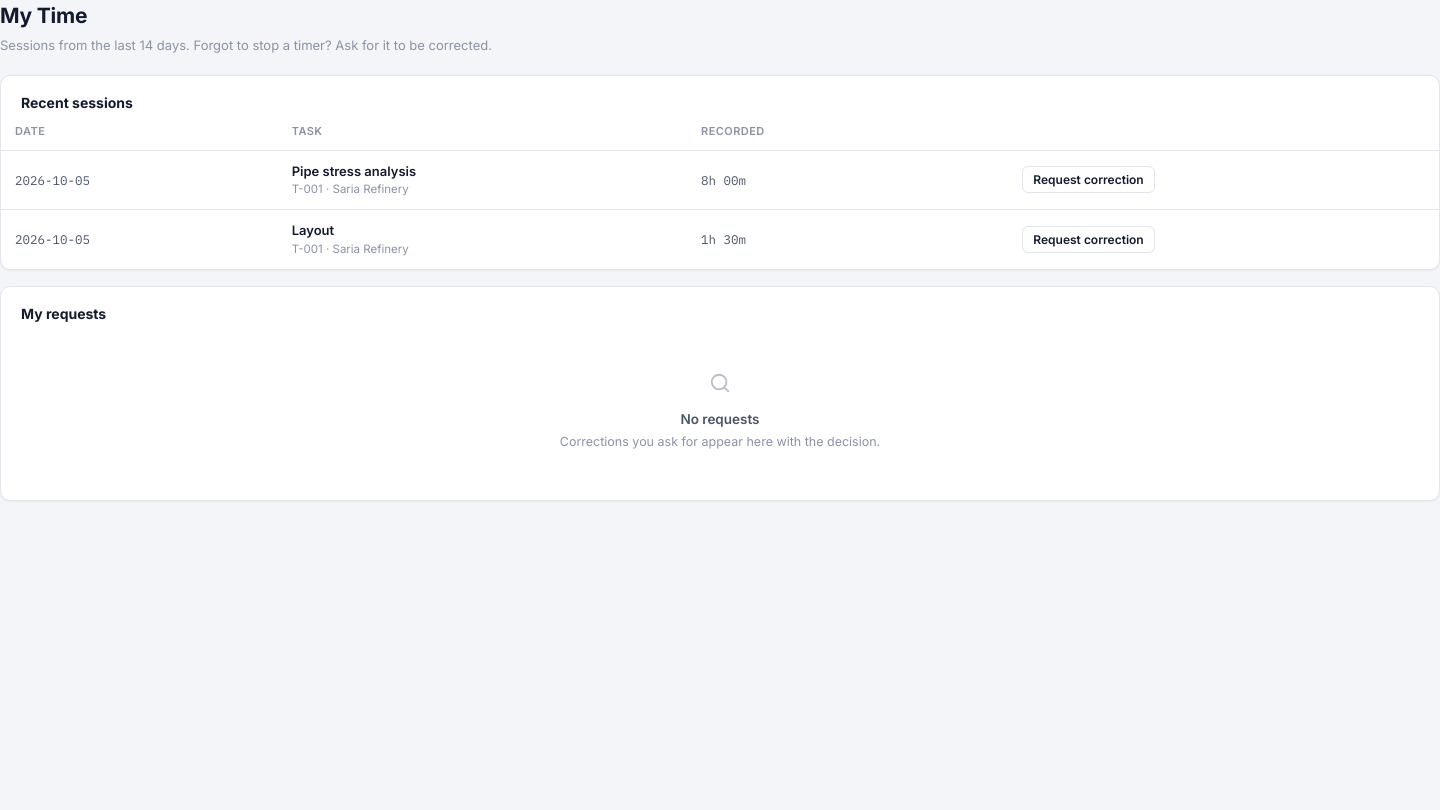
Test: My Time › sends a request with the new time and the reason, then refreshes
The image size is (1440, 810).
Click the button "Request correction" in the row of "Pipe stress analysis": (1088, 180) [1022,166,1155,193]
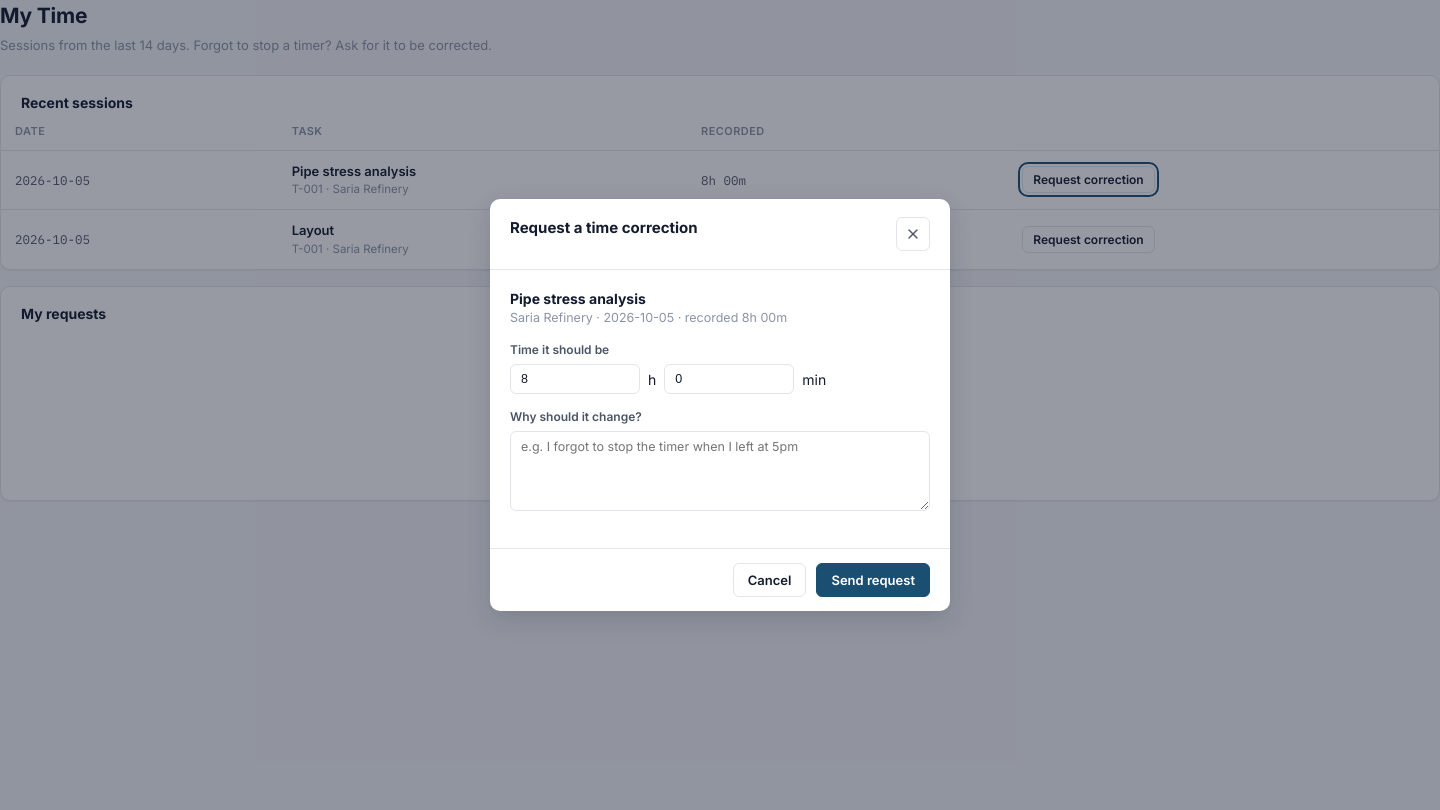
Expected: the number field named "Hours" holds "8"
Expected: the number field named "Minutes" holds "0", [664,364,794,394]
Replace the text in the number field named "Hours" with "6": (575, 379) [510,364,640,394]
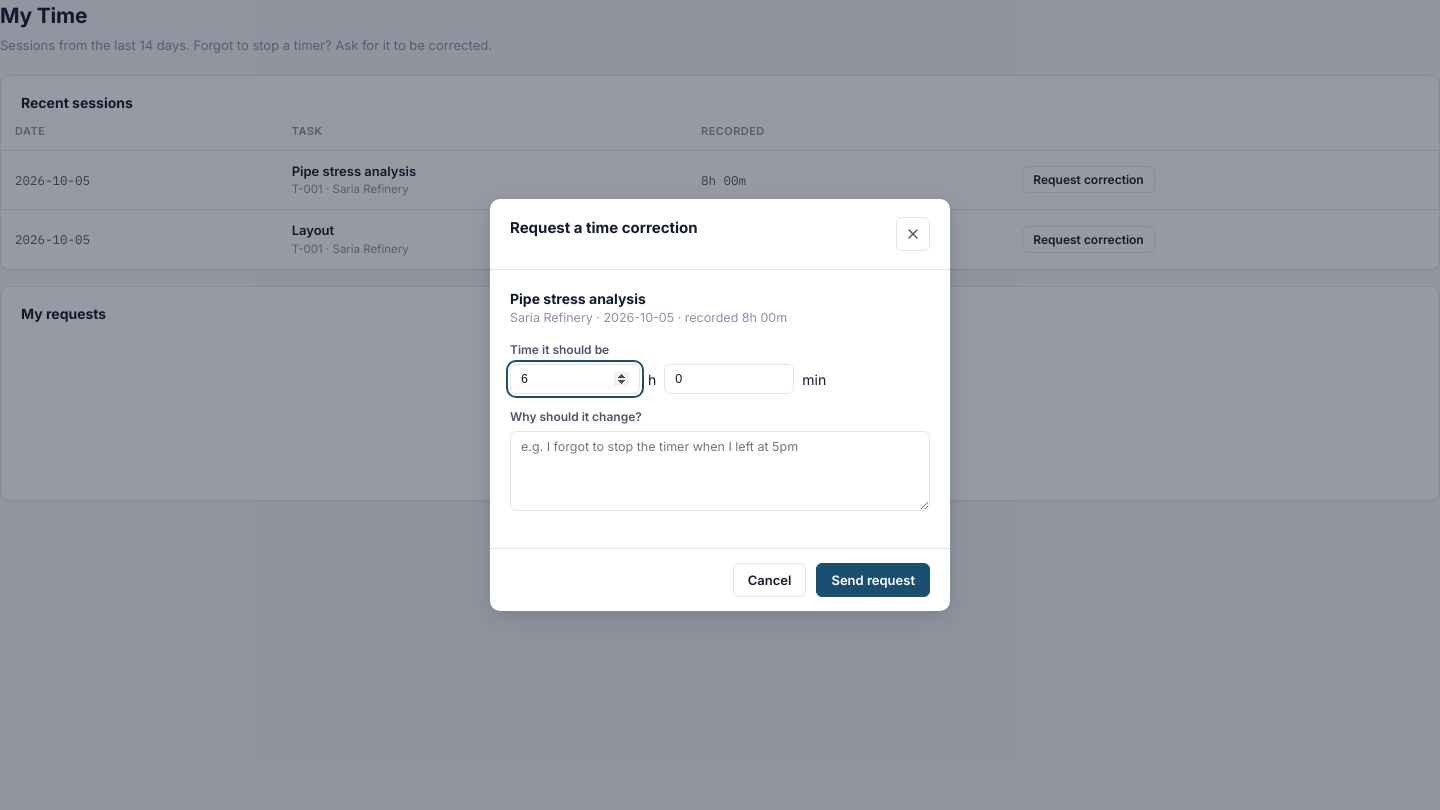
Replace the text in the number field named "Minutes" with "30": (729, 379) [664,364,794,394]
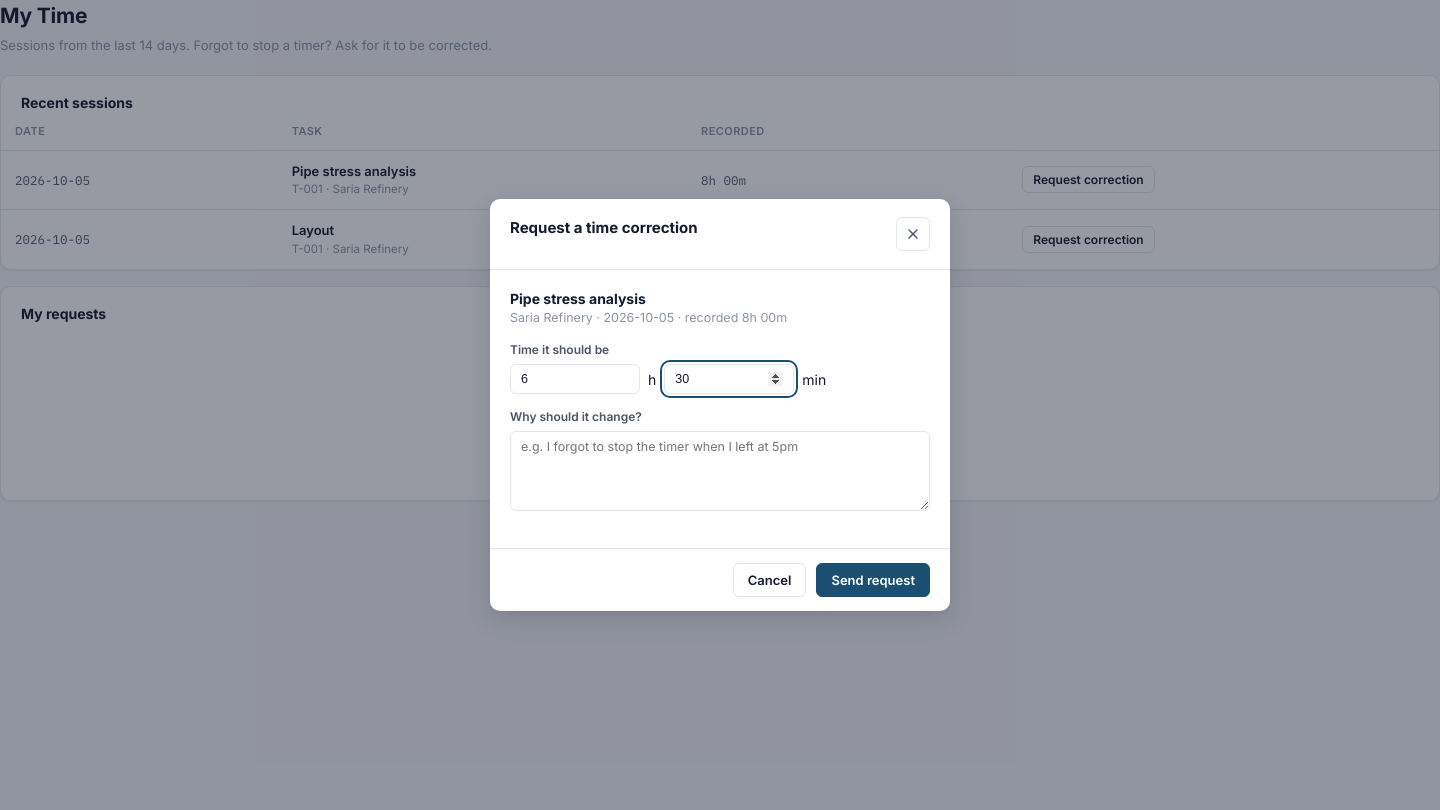
In the text box with placeholder "e.g. I forgot to stop the timer when I left at 5pm": (720, 471) [510,431,930,511], type "I left at 2:30pm"
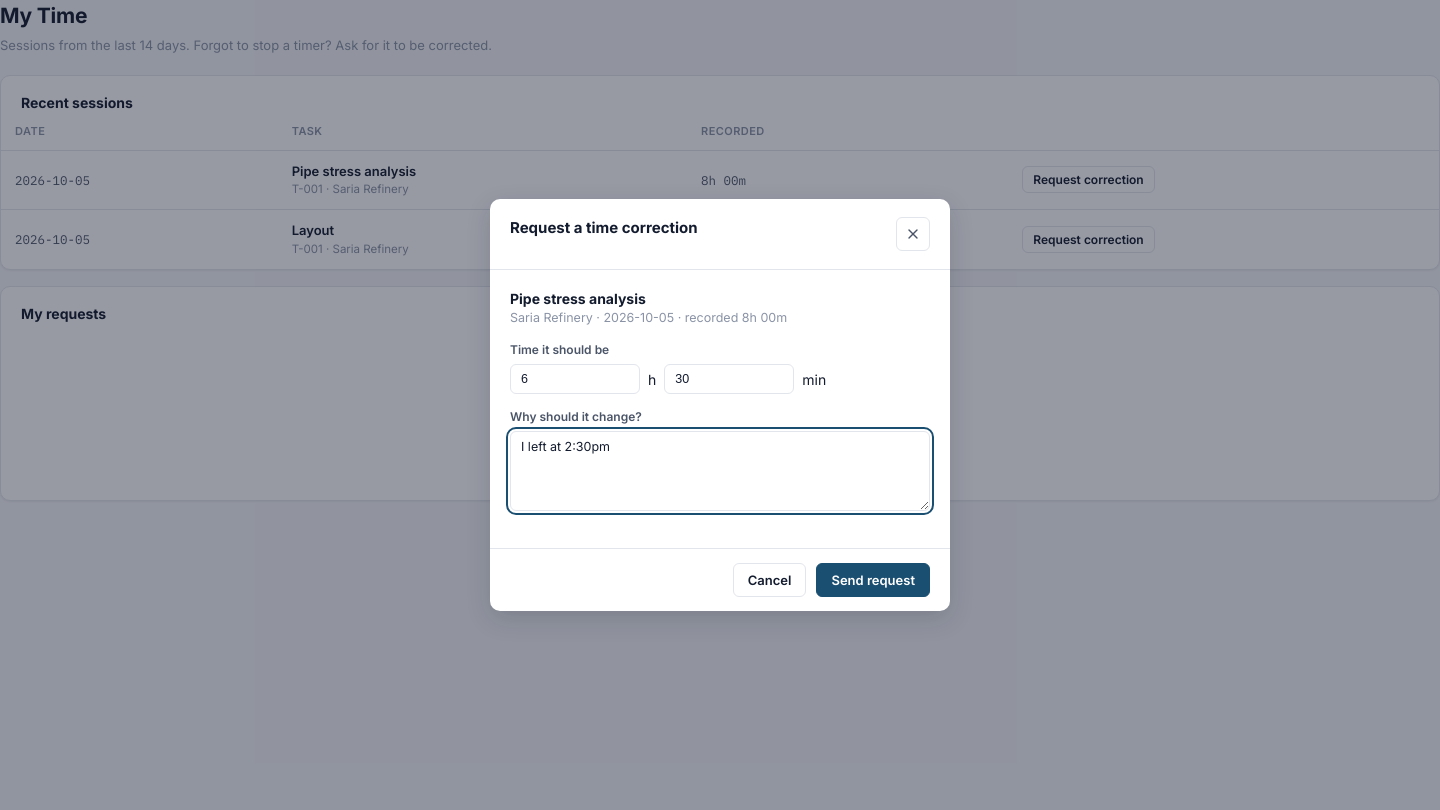
Click the button "Send request": (873, 580) [816,563,930,597]
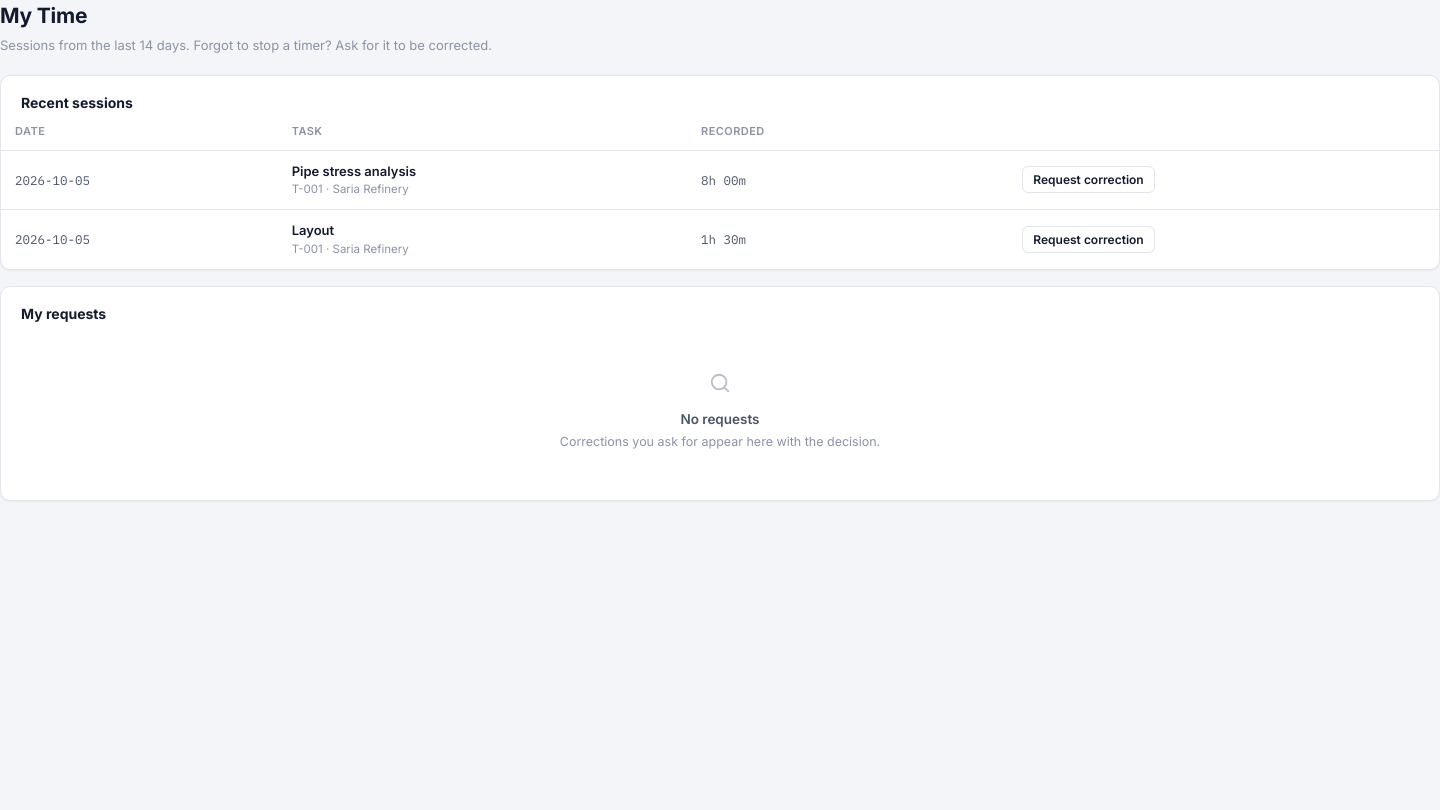
Expected: the button "Send request" is gone
